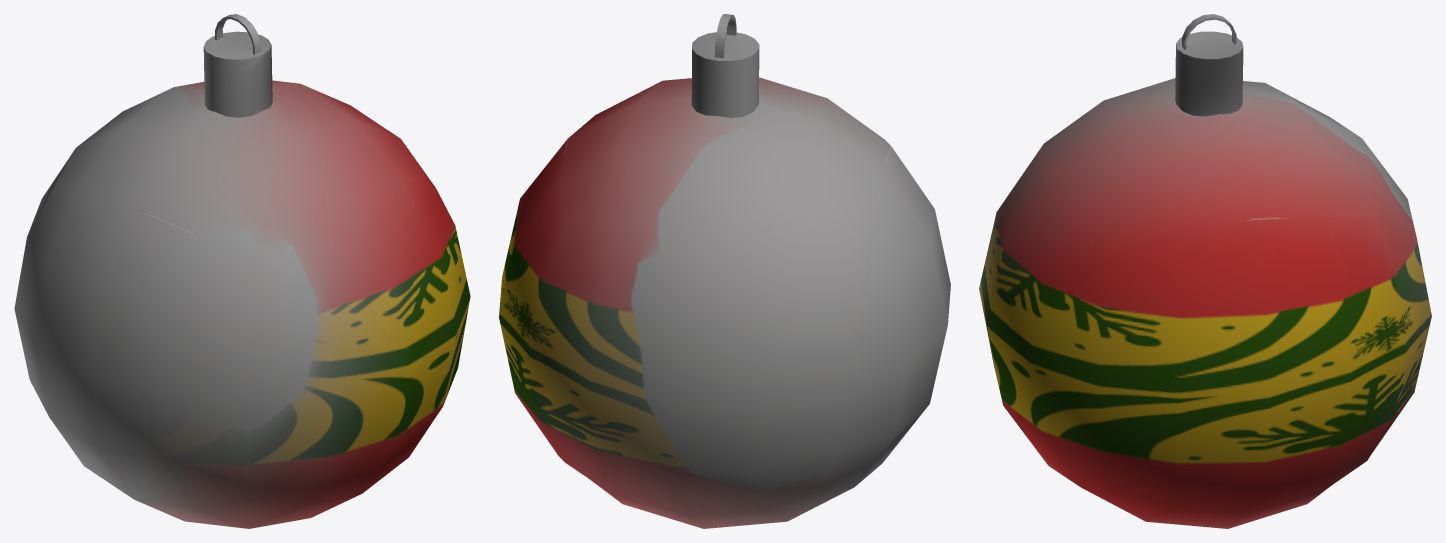
Rendered from escenario_navidad_decoracion.fbx.
The picture shows the model from 3 angles, left to right: view 1: azimuth 30°, elevation 25°; view 2: azimuth 150°, elevation 25°; view 3: azimuth 270°, elevation 25°; orthographic projection.
Parts seen in each view (by area): view 1: Adorno Arbol.002; view 2: Adorno Arbol.002; view 3: Adorno Arbol.002.
Boxes of the visible parts, x1=… form: Adorno Arbol.002: x1=14, y1=14, x2=470, y2=528; Adorno Arbol.002: x1=499, y1=14, x2=950, y2=528; Adorno Arbol.002: x1=979, y1=14, x2=1431, y2=528.
Bounding box in the file's own units: 428 × 513 × 428.
